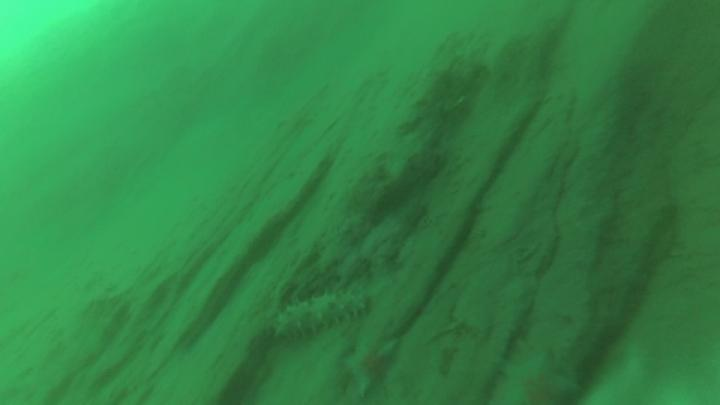echinus: (264, 290, 372, 337)
holothurian: (493, 348, 581, 405), (338, 333, 403, 392)
